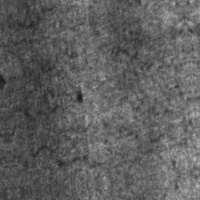crazing: (13, 112, 168, 178)
